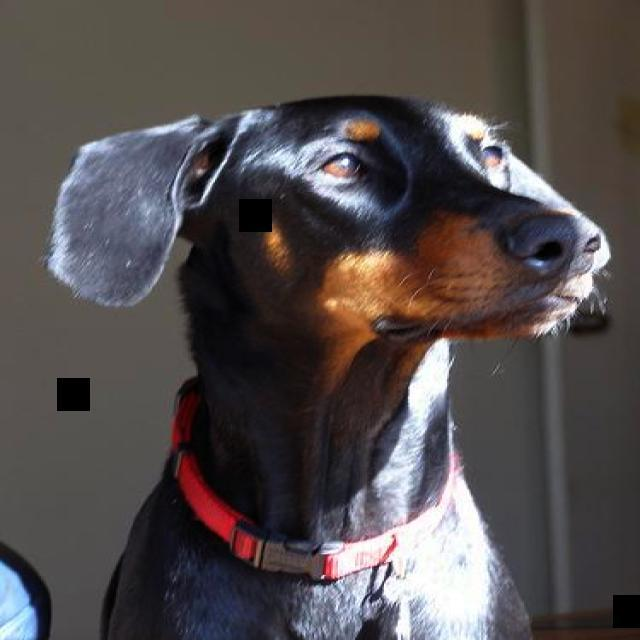adult_dog: (44, 87, 611, 640)
